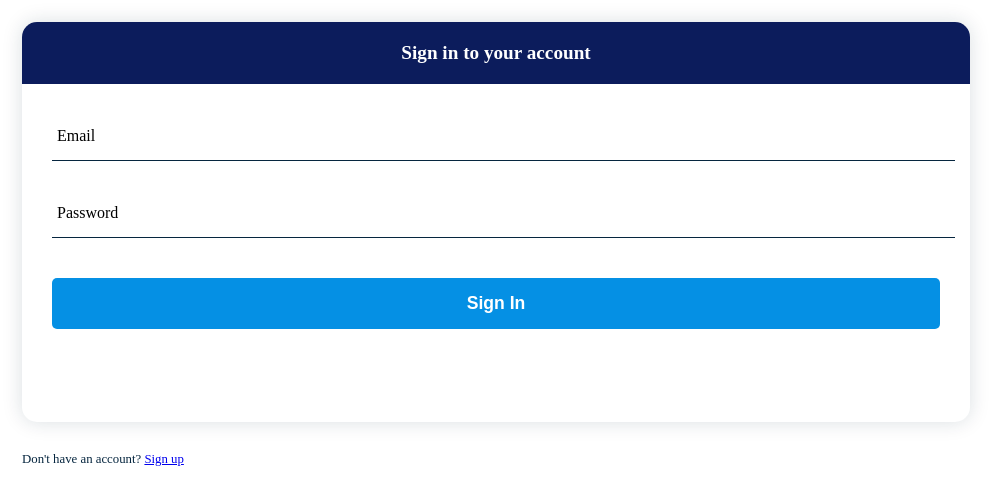
Test: Sign In Form › shows error for email and password field if invalid or missing
The width and height of the screenshot is (993, 483).
Step 1. Click the button "Sign In" → coordinates (496, 304), box [52,278,940,329]
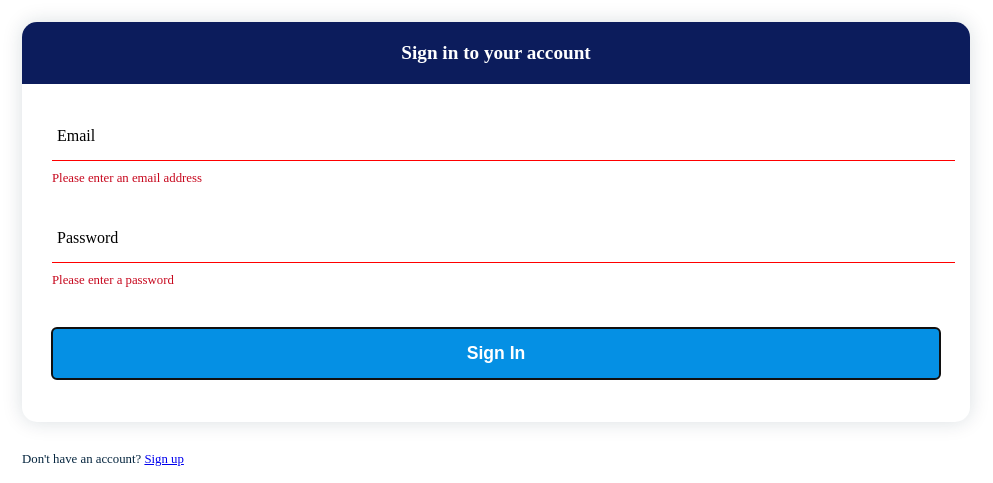
Expected: the text with test id "input-error-email" reads "Please enter an email address", [52,171,202,185]
Expected: the text with test id "input-error-password" reads "Please enter a password", [52,273,174,287]
